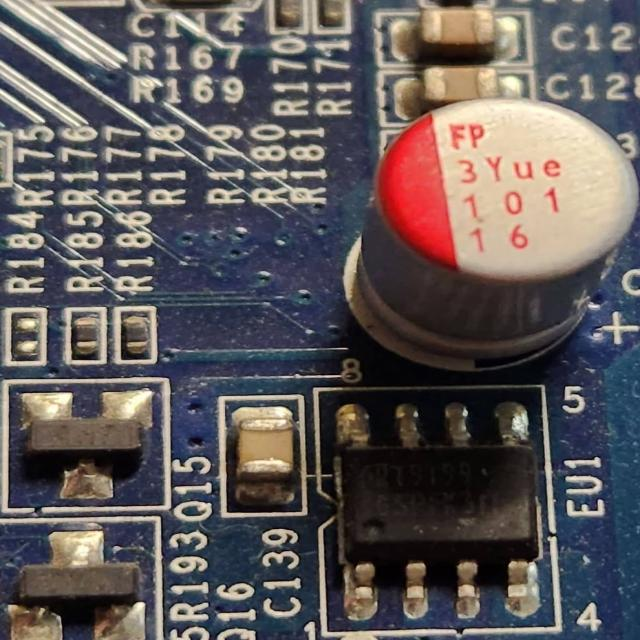4439: (14, 389, 151, 495), (16, 529, 144, 623)
IC: (322, 406, 552, 606)
capacitor 1V5: (360, 95, 640, 355), (228, 409, 300, 496), (394, 9, 510, 58), (411, 66, 503, 100)
resistor IR1: (122, 313, 156, 359), (68, 318, 102, 356)
